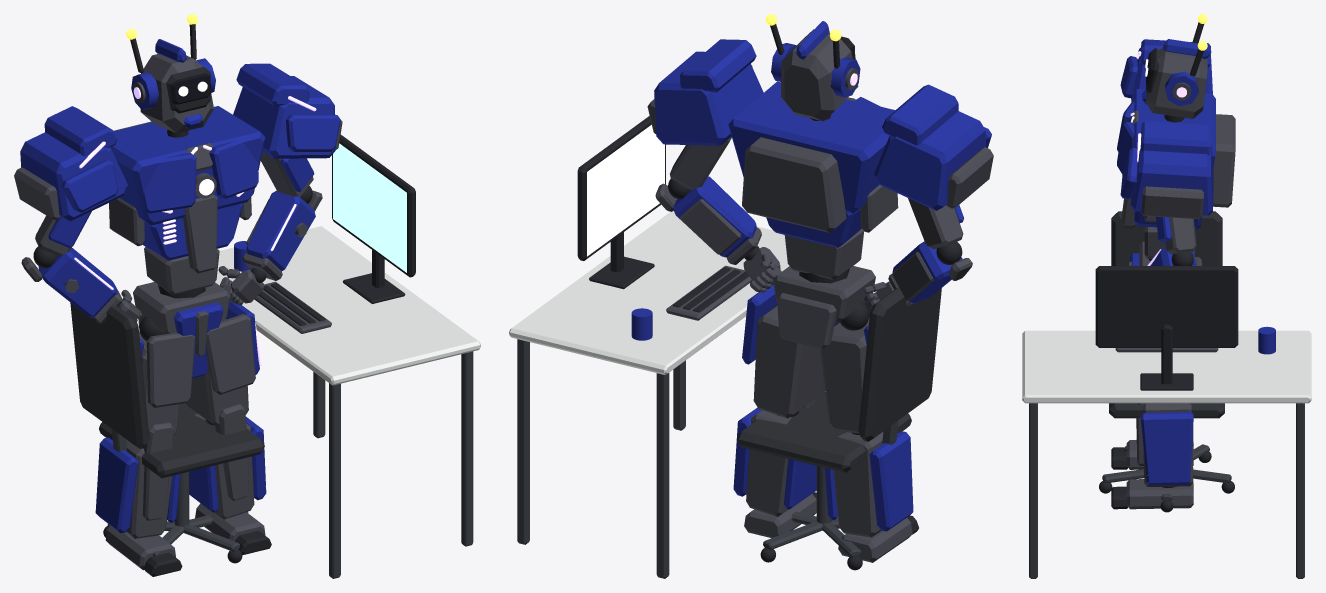
File: buddy.glb
The picture shows the model from 3 angles, left to right: view 1: azimuth 30°, elevation 25°; view 2: azimuth 150°, elevation 25°; view 3: azimuth 270°, elevation 25°; orthographic projection. The views are drawn at different scales.
Parts seen in each view (by area): view 1: prop_desk|desk_top, chest|armor_blue, prop_chair|chair_fabric, shoulder_R|armor_blue, shoulder_L|armor_blue, prop_screen|monitor_code, prop_desk|desk_frame, hip_L|armor_grey, chest|armor_grey, hip_R|armor_grey, knee_R|armor_blue, knee_R|armor_grey (+24 smaller); view 2: prop_desk|desk_top, prop_chair|chair_fabric, chest|armor_blue, shoulder_R|armor_blue, chest|armor_grey, shoulder_L|armor_blue, prop_desk|desk_frame, prop_screen|monitor_code, pelvis|armor_grey, hip_L|armor_grey, head|armor_grey, hip_R|armor_grey (+21 smaller); view 3: prop_desk|desk_top, prop_monitor|joint_dark, shoulder_L|armor_blue, knee_L|armor_blue, prop_chair|chair_fabric, prop_desk|desk_frame, shoulder_L|armor_grey, head|armor_grey, chest|armor_blue, chest|armor_grey, ankle_L|armor_grey, shoulder_R|armor_blue (+9 smaller).
Boxes of the visible parts, bbox=[...] form: prop_desk|desk_top: bbox=[215, 226, 480, 385]; chest|armor_blue: bbox=[110, 106, 265, 260]; prop_chair|chair_fabric: bbox=[70, 302, 264, 478]; shoulder_R|armor_blue: bbox=[20, 106, 127, 247]; shoulder_L|armor_blue: bbox=[233, 63, 340, 191]; prop_screen|monitor_code: bbox=[333, 143, 406, 272]; prop_desk|desk_frame: bbox=[313, 351, 473, 578]; hip_L|armor_grey: bbox=[186, 314, 255, 426]; chest|armor_grey: bbox=[109, 121, 251, 273]; hip_R|armor_grey: bbox=[139, 331, 195, 435]; knee_R|armor_blue: bbox=[95, 437, 180, 533]; knee_R|armor_grey: bbox=[112, 422, 173, 538]; prop_desk|desk_top: bbox=[509, 211, 789, 374]; prop_chair|chair_fabric: bbox=[737, 287, 941, 472]; chest|armor_blue: bbox=[728, 81, 895, 247]; shoulder_R|armor_blue: bbox=[874, 84, 991, 222]; chest|armor_grey: bbox=[742, 97, 898, 232]; shoulder_L|armor_blue: bbox=[654, 39, 763, 145]; prop_desk|desk_frame: bbox=[517, 339, 825, 578]; prop_screen|monitor_code: bbox=[587, 125, 664, 256]; pelvis|armor_grey: bbox=[773, 266, 875, 348]; hip_L|armor_grey: bbox=[753, 305, 822, 418]; head|armor_grey: bbox=[781, 29, 858, 121]; hip_R|armor_grey: bbox=[820, 302, 871, 433]; prop_desk|desk_top: bbox=[1022, 330, 1311, 403]; prop_monitor|joint_dark: bbox=[1095, 266, 1238, 390]; shoulder_L|armor_blue: bbox=[1120, 121, 1213, 242]; knee_L|armor_blue: bbox=[1140, 412, 1193, 485]; prop_chair|chair_fabric: bbox=[1109, 211, 1224, 418]; prop_desk|desk_frame: bbox=[1029, 403, 1304, 578]; shoulder_L|armor_grey: bbox=[1141, 186, 1203, 254]; head|armor_grey: bbox=[1145, 47, 1207, 118]; chest|armor_blue: bbox=[1117, 89, 1215, 229]; chest|armor_grey: bbox=[1121, 110, 1235, 228]; ankle_L|armor_grey: bbox=[1126, 479, 1193, 509]; shoulder_R|armor_blue: bbox=[1120, 39, 1212, 101].
Bounding box in the file's own units: 1.73 × 2.26 × 1.3.
